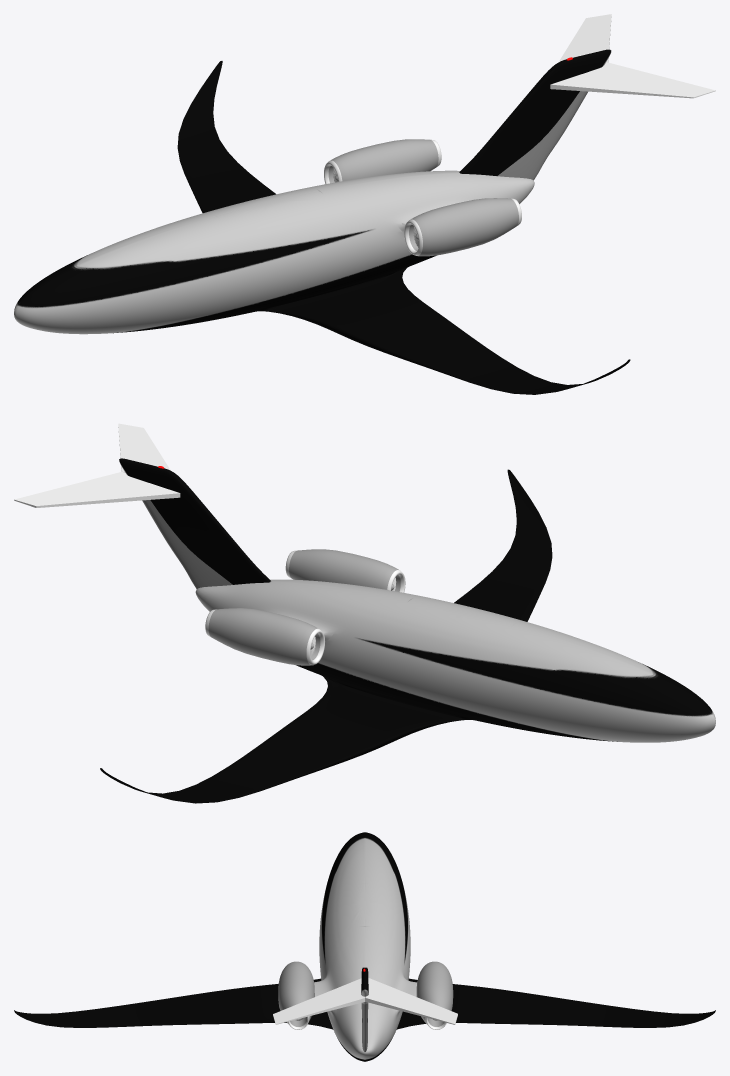
The model's file is OTTO.glb.
3 renders of one model, top to bottom at view 1: azimuth 30°, elevation 25°; view 2: azimuth 150°, elevation 25°; view 3: azimuth 270°, elevation 25°, orthographic. The views are drawn at different scales.
Visible parts, largest first — view 1: Body, Tail 2, Engine_Left, Trail, Engine_Right; view 2: Body, Tail 2, Engine_Right, Trail, Engine_Left; view 3: Body, Trail, Engine_Left, Engine_Right, Tail 2.
Boxes of the visible parts, x1=… form: Body: x1=14, y1=61, x2=630, y2=394; Tail 2: x1=459, y1=49, x2=611, y2=180; Engine_Left: x1=404, y1=198, x2=521, y2=256; Trail: x1=550, y1=14, x2=715, y2=98; Engine_Right: x1=324, y1=139, x2=441, y2=184; Body: x1=100, y1=469, x2=715, y2=803; Tail 2: x1=119, y1=458, x2=270, y2=588; Engine_Right: x1=205, y1=608, x2=325, y2=665; Trail: x1=14, y1=423, x2=180, y2=507; Engine_Left: x1=285, y1=549, x2=405, y2=592; Body: x1=14, y1=832, x2=715, y2=1061; Trail: x1=273, y1=978, x2=457, y2=1024; Engine_Left: x1=278, y1=961, x2=314, y2=1029; Engine_Right: x1=416, y1=961, x2=453, y2=1029; Tail 2: x1=361, y1=967, x2=368, y2=1051.
Size of the model in its own units: 14.44 by 3.64 by 15.7.
7 materials, 1 textured.
